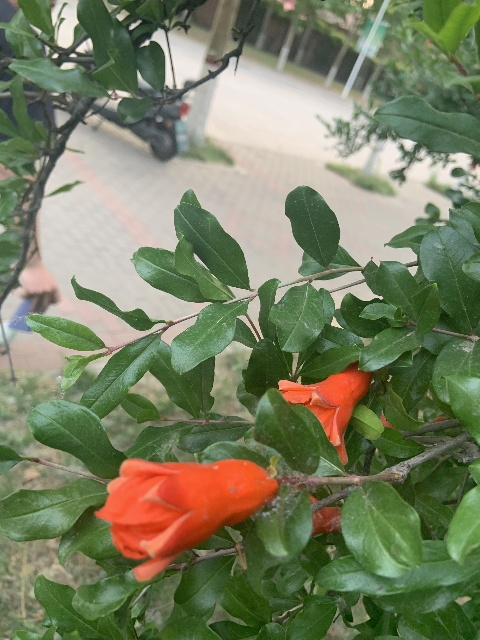flower: (94, 457, 276, 582), (277, 360, 371, 465), (307, 493, 341, 537)
